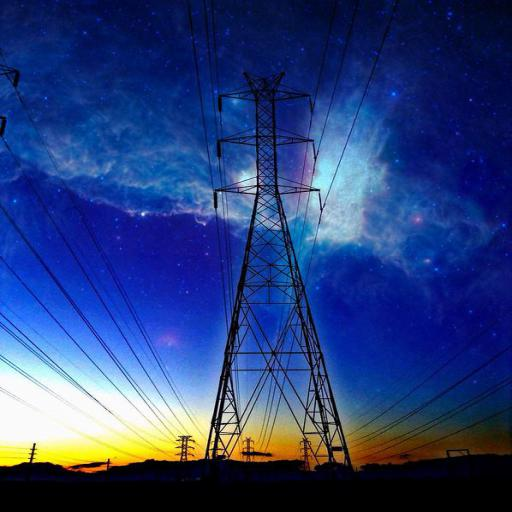mono_9: (27, 442, 38, 464)
ss_3: (208, 63, 356, 472), (173, 433, 194, 460), (298, 436, 314, 469), (238, 436, 257, 461)
